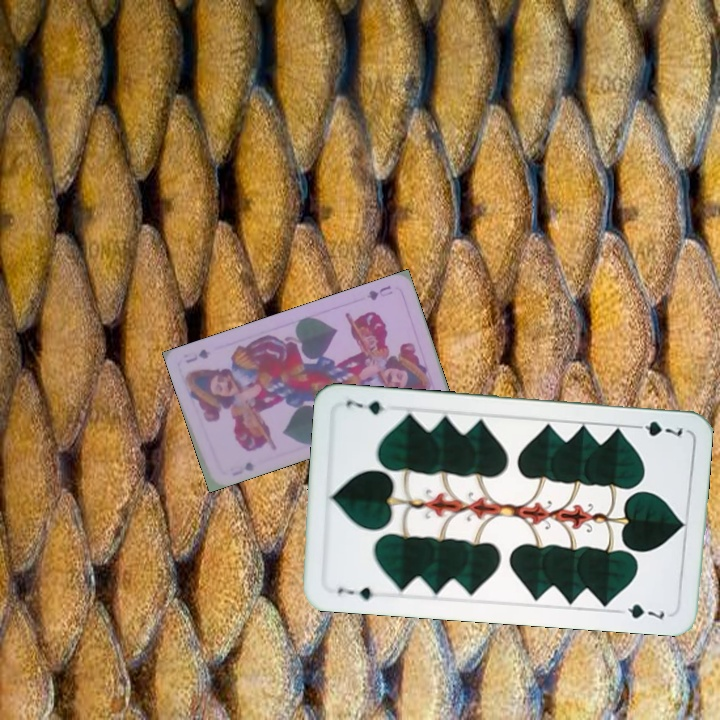G7: (628, 417, 685, 439), (333, 583, 376, 603)
GU: (363, 281, 395, 303), (228, 458, 257, 478)
